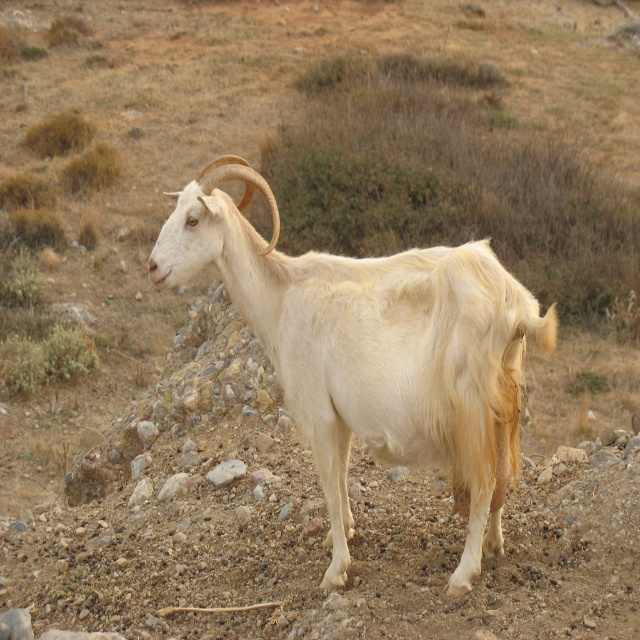Goat: (148, 154, 559, 597)
